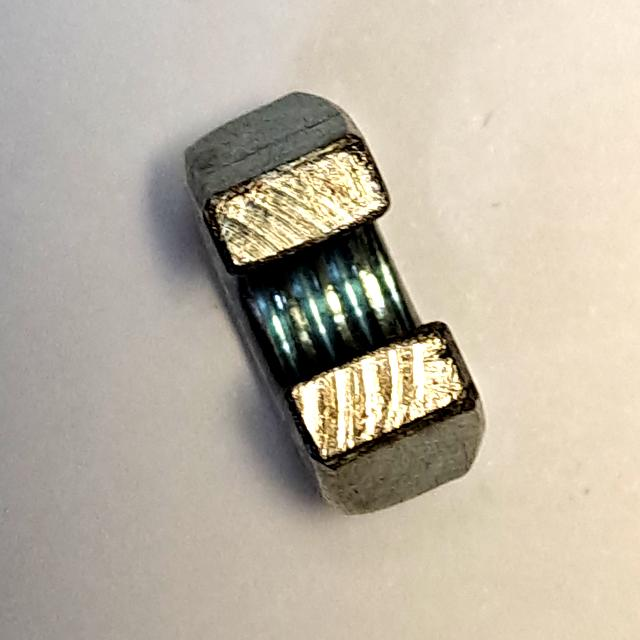Side-Fracture: (173, 81, 499, 533)
